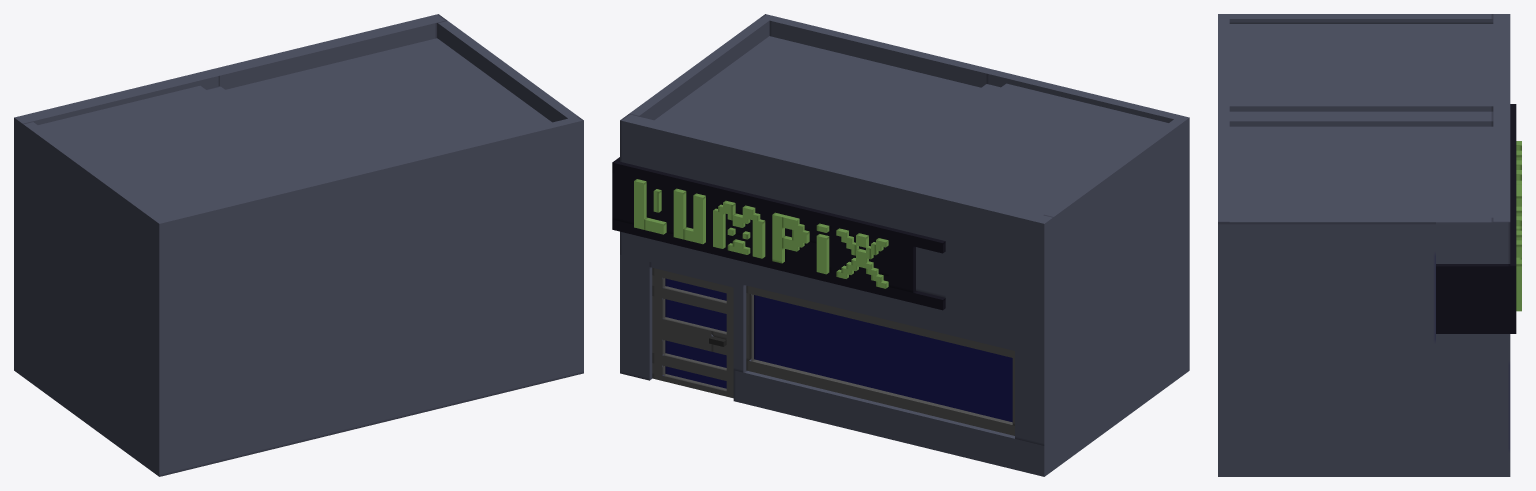
Rendered from lumpix.dae.
3 views of the same model, side by side, from view 1: azimuth 30°, elevation 25°; view 2: azimuth 150°, elevation 25°; view 3: azimuth 270°, elevation 25° (orthographic).
Visible parts, largest first — view 1: Content; view 2: Content; view 3: Content.
Part boxes in pixels (box(x1,y1,x2,y2)): Content: box(14, 14, 583, 476); Content: box(612, 14, 1189, 476); Content: box(1218, 14, 1521, 476).
Size of the model in its own units: 87 by 49 by 53.
1 material, 1 textured.
